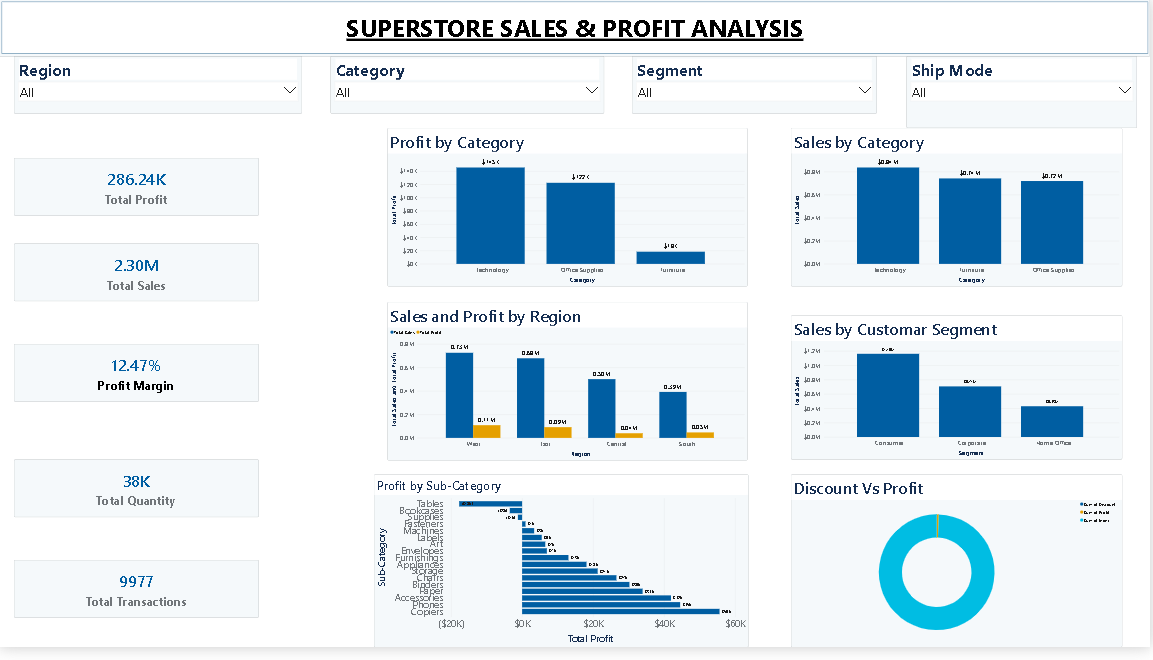

Layout of this report page (visuals, bound fields, positions):
{"tool":"powerbi","page":{"name":"Page 1","canvas":[3840,2160],"ordinal":0},"visuals":[{"type":"card","fields":{"Values":["cleaned_superstore.Total Sales"]},"box":[48,816,816,192],"z":0},{"type":"card","fields":{"Values":["cleaned_superstore.Total Profit"]},"box":[48,528,816,192],"z":1000},{"type":"card","fields":{"Values":["cleaned_superstore.Profit Margin"]},"box":[48,1152,816,192],"z":2000},{"type":"card","fields":{"Values":["cleaned_superstore.Total Quantity"]},"box":[48,1536,816,192],"z":3000},{"type":"card","fields":{"Values":["cleaned_superstore.Total Transactions"]},"box":[48,1872,816,192],"z":4000},{"type":"clusteredColumnChart","title":"Sales by Category","fields":{"Category":["cleaned_superstore.Category"],"Y":["cleaned_superstore.Total Sales"]},"box":[2640,432,1104,528],"z":5000},{"type":"clusteredColumnChart","title":"Profit by Category","fields":{"Category":["cleaned_superstore.Category"],"Y":["cleaned_superstore.Total Profit"]},"box":[1296,432,1200,528],"z":6000},{"type":"clusteredColumnChart","title":"Sales and Profit by Region","fields":{"Category":["cleaned_superstore.Region"],"Y":["cleaned_superstore.Total Sales","cleaned_superstore.Total Profit"]},"box":[1296,1008,1200,528],"z":7000},{"type":"clusteredColumnChart","title":"Sales by Customar  Segment","fields":{"Category":["cleaned_superstore.Segment"],"Y":["cleaned_superstore.Total Sales"]},"box":[2640,1056,1104,480],"z":8000},{"type":"clusteredBarChart","title":" Profit by Sub-Category","fields":{"Category":["cleaned_superstore.Sub-Category"],"Y":["cleaned_superstore.Total Profit"]},"box":[1248,1584,1248,576],"z":9000},{"type":"slicer","fields":{"Values":["cleaned_superstore.Region"]},"box":[48,192,960,192],"z":11000},{"type":"slicer","fields":{"Values":["cleaned_superstore.Category"]},"box":[1104,192,912,192],"z":12000},{"type":"slicer","fields":{"Values":["cleaned_superstore.Segment"]},"box":[2112,192,816,192],"z":13000},{"type":"slicer","fields":{"Values":["cleaned_superstore.Ship Mode"]},"box":[3024,192,768,240],"z":14000},{"type":"shape","box":[0,0,3840,192],"z":15000},{"type":"scatterChart","title":"Discount Vs Profit ","fields":{"Size":["Sum(cleaned_superstore.Index)"],"X":["Sum(cleaned_superstore.Discount)"],"Y":["Sum(cleaned_superstore.Profit)"]},"box":[2640,1584,1104,576],"z":15001}]}

Visuals, with their boxes in screenshot pixels (x1, y1, x2, y2), scaled from the page's 3840x2160 canvas onto the 1153x660 screenshot:
card - cleaned_superstore.Total Sales: locate(14, 249, 259, 308)
card - cleaned_superstore.Total Profit: locate(14, 161, 259, 220)
card - cleaned_superstore.Profit Margin: locate(14, 352, 259, 411)
card - cleaned_superstore.Total Quantity: locate(14, 469, 259, 528)
card - cleaned_superstore.Total Transactions: locate(14, 572, 259, 631)
"Sales by Category" clusteredColumnChart: locate(793, 132, 1124, 293)
"Profit by Category" clusteredColumnChart: locate(389, 132, 749, 293)
"Sales and Profit by Region" clusteredColumnChart: locate(389, 308, 749, 469)
"Sales by Customar  Segment" clusteredColumnChart: locate(793, 323, 1124, 469)
" Profit by Sub-Category" clusteredBarChart: locate(375, 484, 749, 659)
slicer - cleaned_superstore.Region: locate(14, 59, 303, 117)
slicer - cleaned_superstore.Category: locate(331, 59, 605, 117)
slicer - cleaned_superstore.Segment: locate(634, 59, 879, 117)
slicer - cleaned_superstore.Ship Mode: locate(908, 59, 1139, 132)
shape: locate(0, 0, 1152, 59)
"Discount Vs Profit " scatterChart: locate(793, 484, 1124, 659)
